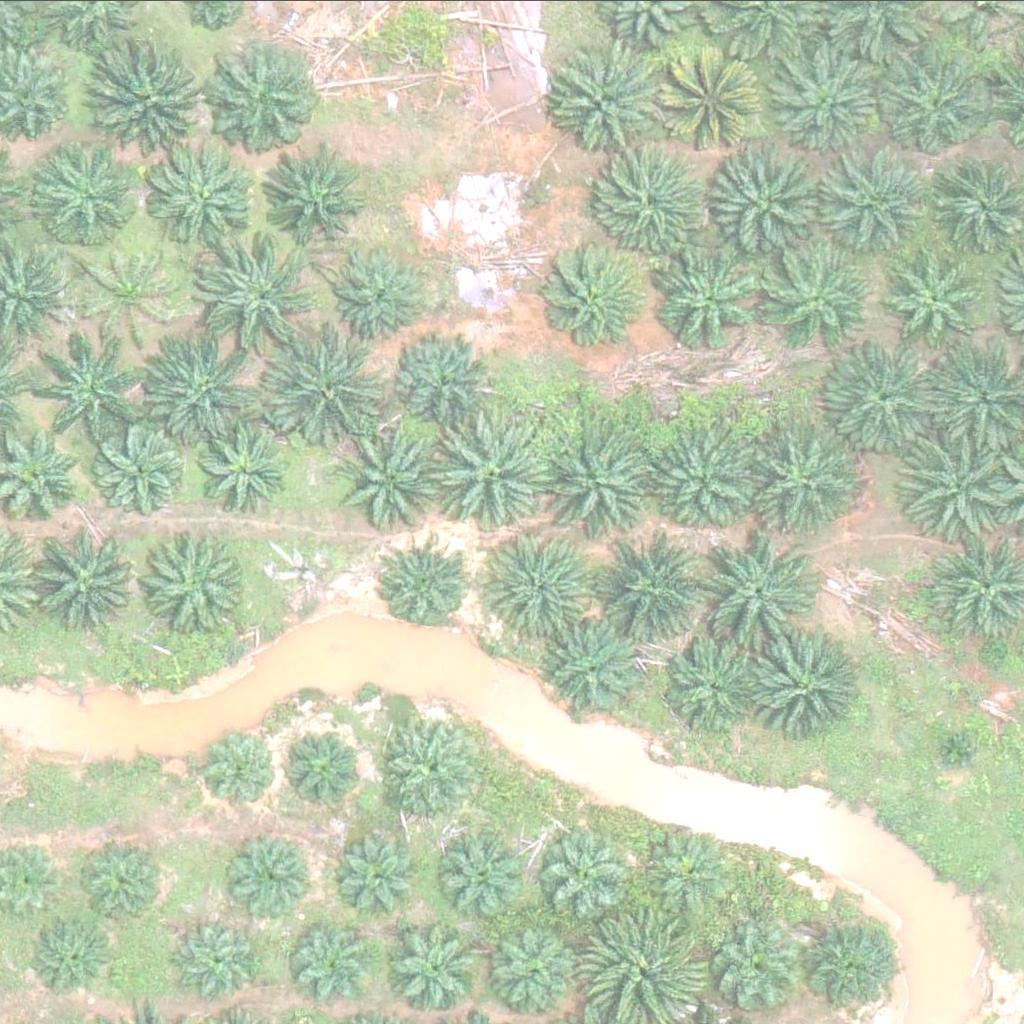Kelapa_Sawit: (642, 418, 756, 531), (270, 330, 384, 443), (547, 427, 661, 540), (483, 529, 597, 642), (715, 143, 828, 256), (657, 241, 770, 354), (754, 630, 867, 743), (95, 43, 208, 156), (144, 329, 257, 442), (762, 239, 876, 351), (145, 136, 259, 248), (534, 241, 648, 353), (591, 531, 705, 643), (34, 521, 148, 633), (837, 338, 950, 450), (745, 427, 858, 539), (893, 427, 1006, 539), (702, 539, 815, 651), (553, 45, 666, 157), (597, 155, 710, 267), (211, 42, 324, 154), (200, 238, 313, 350), (31, 333, 144, 445), (324, 417, 437, 529), (438, 413, 551, 525), (774, 58, 875, 158), (886, 56, 987, 156), (831, 150, 932, 250), (886, 249, 987, 349), (664, 636, 765, 736), (73, 240, 174, 340), (391, 333, 492, 433), (91, 423, 192, 523), (187, 419, 288, 519), (143, 530, 244, 630), (376, 717, 477, 817), (437, 825, 538, 925), (544, 617, 645, 717), (668, 52, 768, 152), (799, 915, 899, 1015), (264, 147, 364, 247), (36, 150, 136, 250), (337, 244, 437, 344), (483, 915, 583, 1015), (387, 911, 487, 1011), (706, 923, 794, 1011), (80, 840, 168, 928), (641, 826, 729, 914), (290, 917, 378, 1005), (377, 542, 465, 629), (28, 912, 116, 999), (176, 919, 264, 1006), (233, 830, 321, 917), (279, 723, 367, 810), (549, 829, 637, 916), (328, 834, 416, 921), (206, 732, 282, 807), (929, 728, 980, 778)
